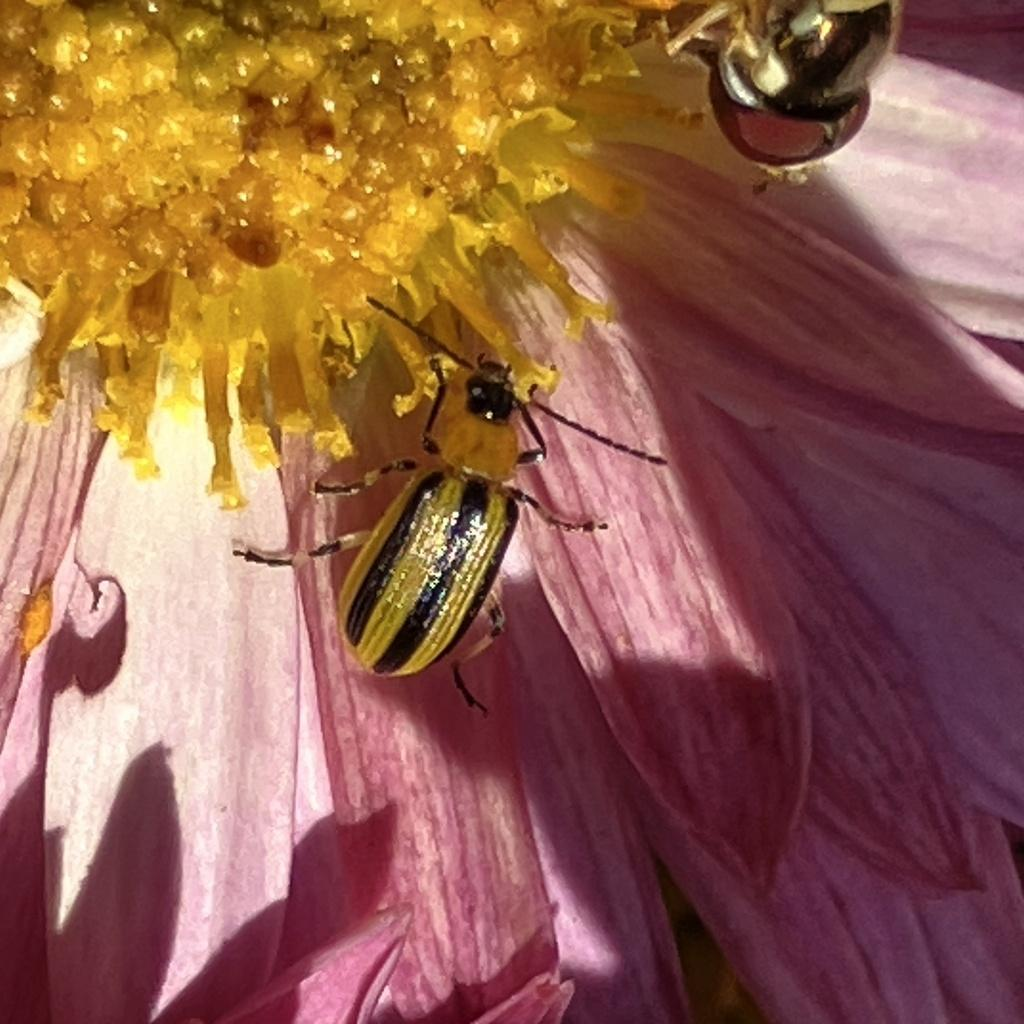potato_beetle: (217, 254, 704, 743)
